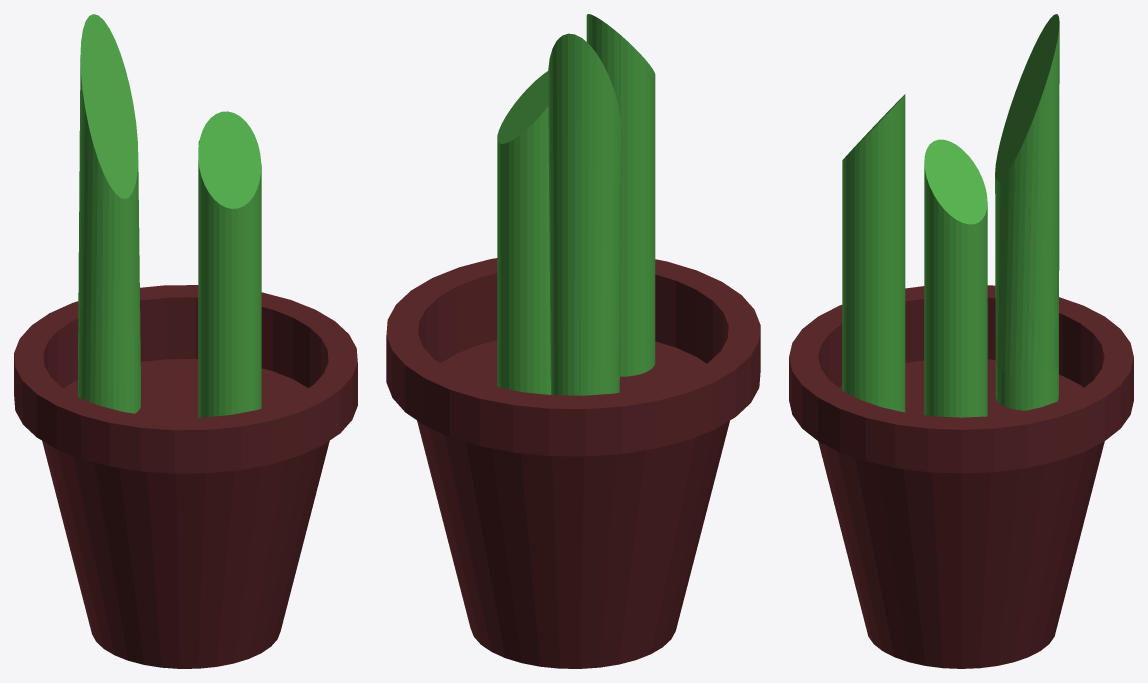
File: plant bamboo .fbx
3 renders of one model, left to right at view 1: azimuth 30°, elevation 25°; view 2: azimuth 150°, elevation 25°; view 3: azimuth 270°, elevation 25°, orthographic. The views are drawn at different scales.
Visible parts, largest first — view 1: Cube, Cylinder, Cylinder.001; view 2: Cube, Cylinder, Cylinder.002, Cylinder.001; view 3: Cube, Cylinder, Cylinder.001, Cylinder.002.
Part boxes in pixels (x1,y1,x2,y2): Cube: (14,285,357,668); Cylinder: (78,14,140,413); Cylinder.001: (198,111,261,417); Cube: (386,258,760,668); Cylinder: (548,33,622,395); Cylinder.002: (497,71,550,394); Cylinder.001: (586,14,655,376); Cube: (789,285,1133,668); Cylinder: (995,14,1059,410); Cylinder.001: (842,94,905,412); Cylinder.002: (924,139,987,417).
Size of the model in its own units: 225 by 425 by 225.
